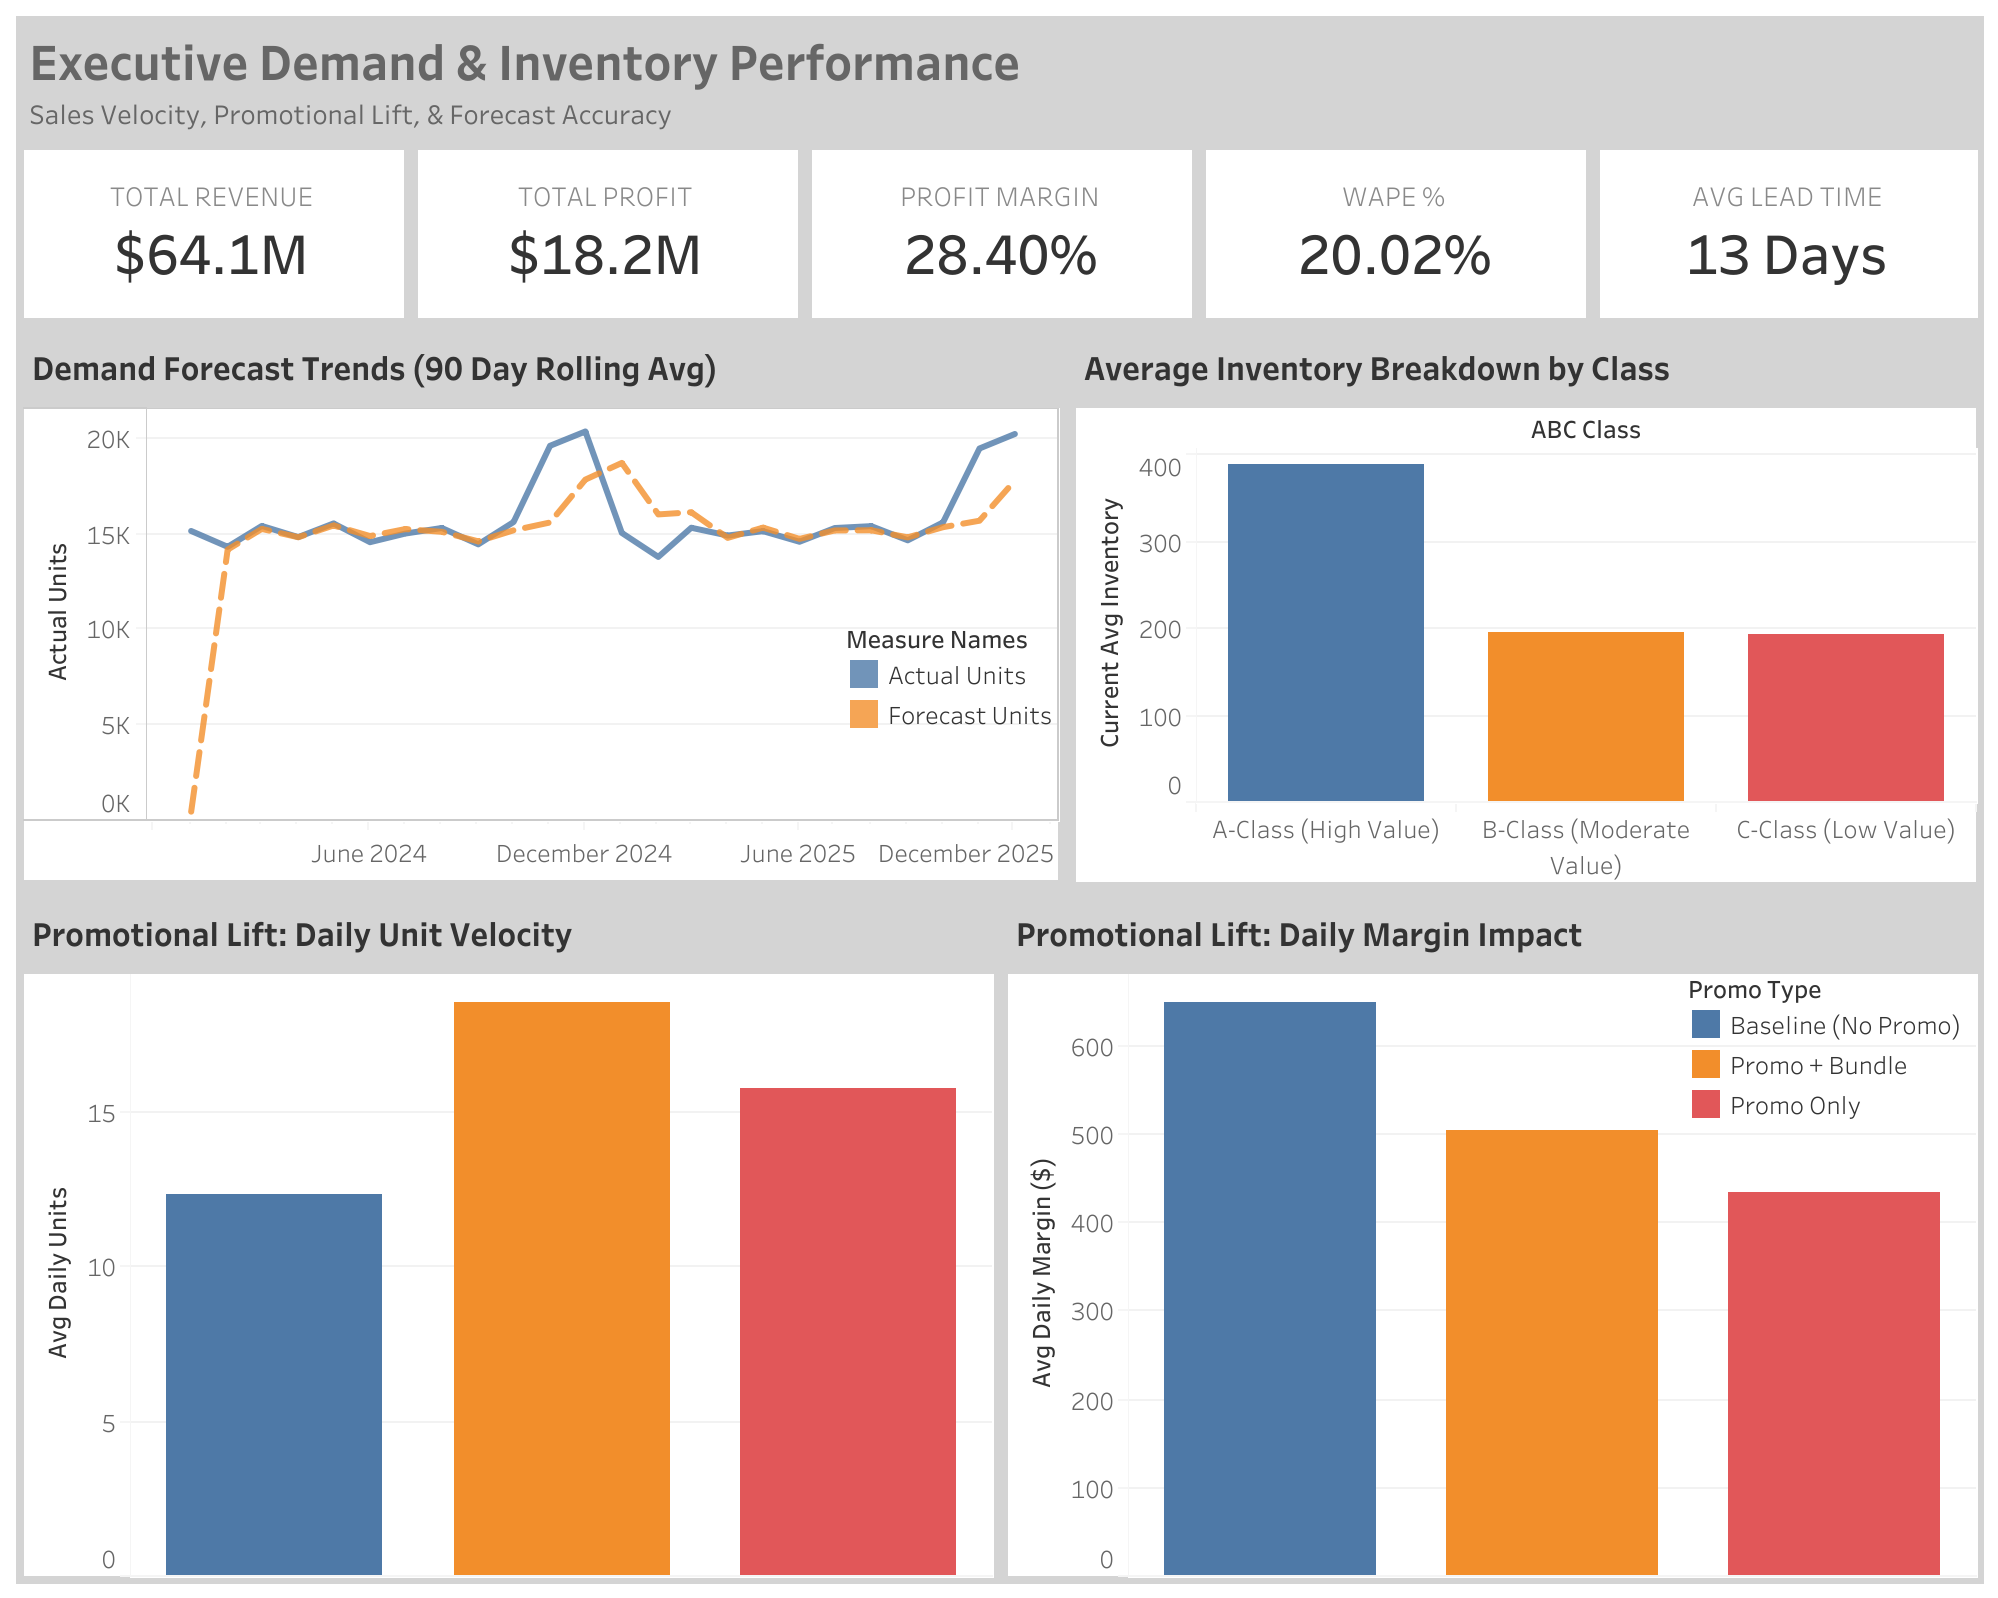

Layout of this report page (visuals, bound fields, positions):
{"tool":"tableau","page":{"name":"Dashboard 1","canvas":[1000,800],"ordinal":0},"visuals":[{"type":"text","box":[8,8,984,63]},{"type":"worksheet","title":"Total Revenue","mark":"Automatic","box":[8,71,197,91]},{"type":"worksheet","title":"Total Profit","mark":"Automatic","box":[205,71,197,91]},{"type":"worksheet","title":"Profit Margin","mark":"Automatic","box":[402,71,197,91]},{"type":"worksheet","title":"WAPE %","mark":"Automatic","box":[599,71,197,91]},{"type":"worksheet","title":"AVG Lead Time","mark":"Automatic","box":[796,71,196,91]},{"type":"worksheet","title":"Demand Forecast Trends","mark":"Line","rows":["Actual_Units","Forecast_Units"],"cols":["Date"],"box":[8,161.7,526,283.6]},{"type":"worksheet","title":"ABC","mark":"Automatic","rows":["Current_Avg_Inventory"],"cols":["ABC_Class"],"box":[534,161.7,458,283.6]},{"type":"legend","title":"Demand Forecast Trends","param":"[federated.0wb79zi1j4n7dq14ll8w00e5vs4c].[:Measure Names]","box":[422,308,152,59]},{"type":"worksheet","title":"Promo Lift (units sold)","mark":"Automatic","rows":["Avg_Daily_Units"],"cols":["Calculation_0014871219073028"],"box":[8,445.3,492,346.7]},{"type":"worksheet","title":"Promo Lift (Margin)","mark":"Automatic","rows":["Avg_Daily_Margin"],"cols":["Calculation_0014871219073028"],"box":[500,445.3,492,346.7]},{"type":"legend","title":"Promo Lift (units sold)","param":"[federated.0wb79zi1j4n7dq14ll8w00e5vs4c].[none:Calculation_0014871219073028:nk]","box":[843,483,152,79]}]}

Visuals, with their boxes in screenshot pixels (x1, y1, x2, y2), scaled from the page's 1000x800 canvas onto the 1998x1598 screenshot:
text: 16,16,1982,142
"Total Revenue" worksheet: 16,142,410,324
"Total Profit" worksheet: 410,142,803,324
"Profit Margin" worksheet: 803,142,1197,324
"WAPE %" worksheet: 1197,142,1590,324
"AVG Lead Time" worksheet: 1590,142,1982,324
"Demand Forecast Trends" worksheet (Line marks): 16,323,1067,889
"ABC" worksheet: 1067,323,1982,889
"Demand Forecast Trends" legend: 843,615,1147,733
"Promo Lift (units sold)" worksheet: 16,889,999,1582
"Promo Lift (Margin)" worksheet: 999,889,1982,1582
"Promo Lift (units sold)" legend: 1684,965,1988,1123
